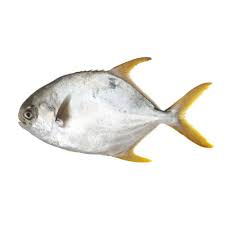Ikan Bawal: (10, 46, 225, 171)
